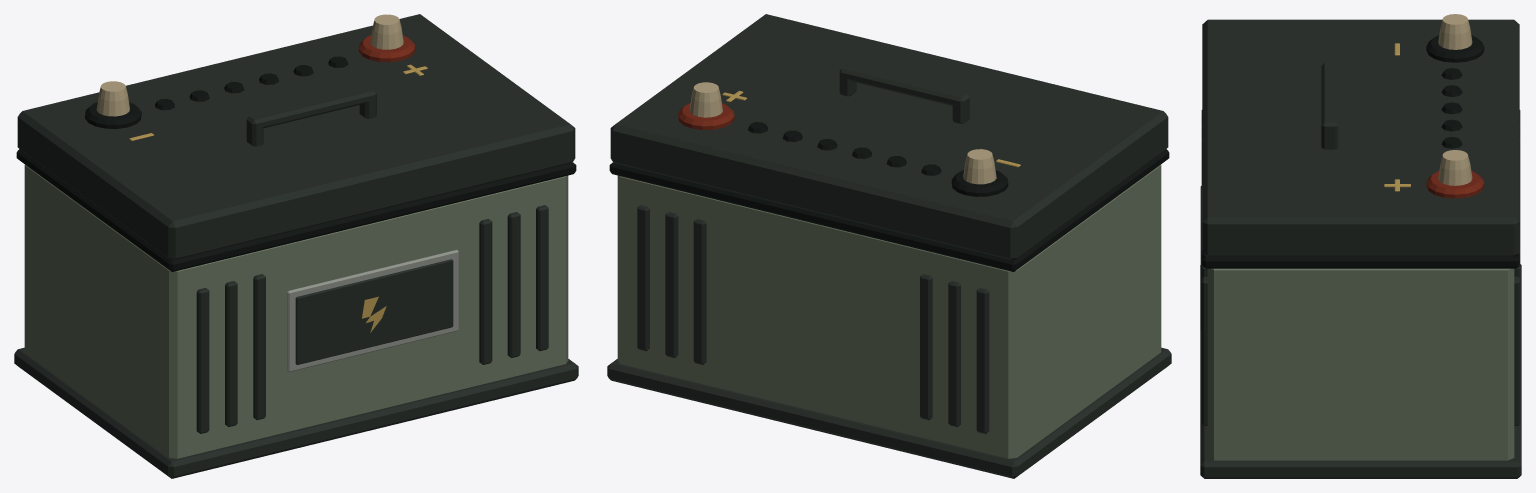
The model's file is rv_service_battery.gltf.
3 views of the same model, side by side, from view 1: azimuth 30°, elevation 25°; view 2: azimuth 150°, elevation 25°; view 3: azimuth 270°, elevation 25° (orthographic).
Parts seen in each view (by area): view 1: rv_service_battery; view 2: rv_service_battery; view 3: rv_service_battery.
Boxes of the visible parts, x1,y1,x2,y2 form: rv_service_battery: (14, 14, 578, 478); rv_service_battery: (607, 14, 1171, 478); rv_service_battery: (1200, 14, 1521, 478).
Bounding box in the file's own units: 0.45 × 0.3 × 0.3.
